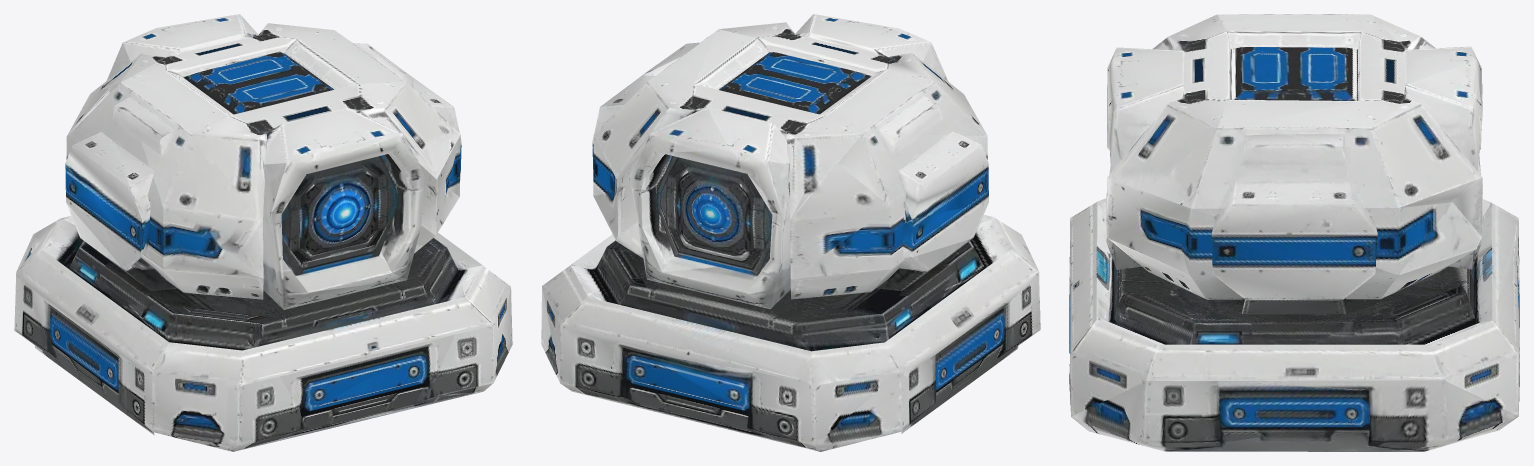
The model's file is eye1.glb.
3 views of the same model, side by side, from view 1: azimuth 30°, elevation 25°; view 2: azimuth 150°, elevation 25°; view 3: azimuth 270°, elevation 25° (orthographic). The views are drawn at different scales.
Parts seen in each view (by area): view 1: mesh_node; view 2: mesh_node; view 3: mesh_node.
Part boxes in pixels (x1,y1,x2,y2): mesh_node: (14,14,512,451); mesh_node: (541,14,1040,451); mesh_node: (1069,14,1519,451).
Bounding box in the file's own units: 1 × 0.7344 × 1.
1 material, 1 textured.
